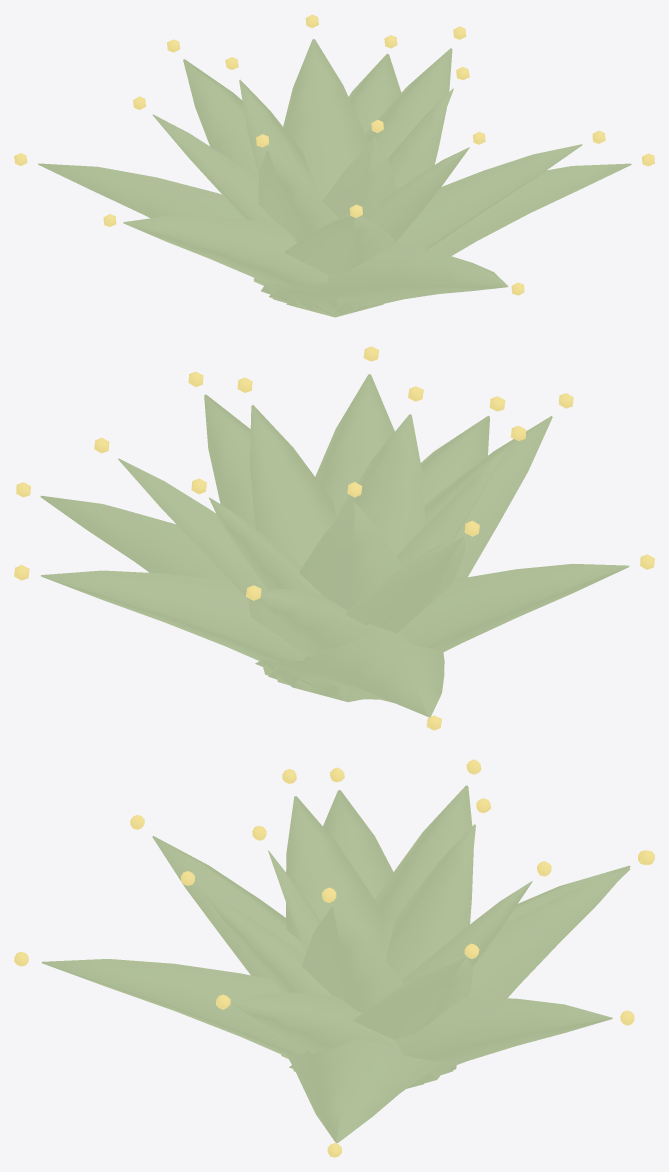
Rendered from Blender_Agave_1.glb.
The picture shows the model from 3 angles, top to bottom: view 1: azimuth 30°, elevation 25°; view 2: azimuth 150°, elevation 25°; view 3: azimuth 270°, elevation 25°; orthographic projection. The views are drawn at different scales.
Parts seen in each view (by area): view 1: Blender_Agave_1; view 2: Blender_Agave_1; view 3: Blender_Agave_1.
Boxes of the visible parts, x1,y1,x2,y2 form: Blender_Agave_1: (14,14,654,317); Blender_Agave_1: (14,346,654,730); Blender_Agave_1: (14,759,654,1157).
Size of the model in its own units: 1.43 by 0.5935 by 1.28.
